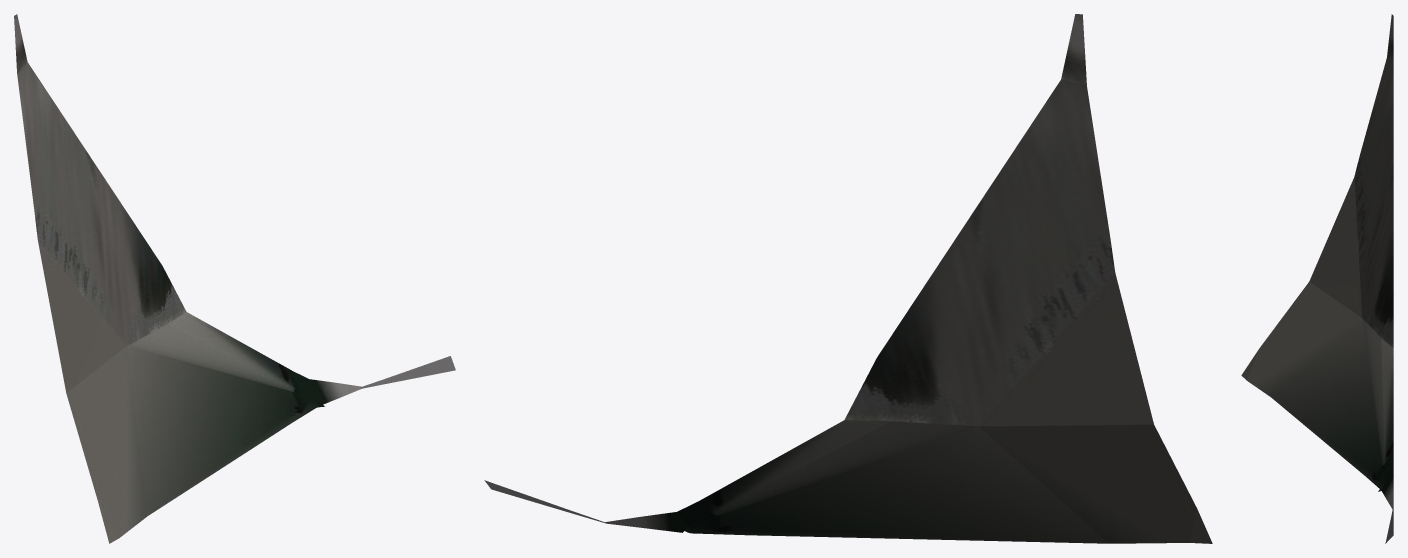
3 views of the same model, side by side, from view 1: azimuth 30°, elevation 25°; view 2: azimuth 150°, elevation 25°; view 3: azimuth 270°, elevation 25° (orthographic). The views are drawn at different scales.
Size of the model in its own units: 0.8374 by 0.8374 by 0.3197.
1 material, 1 textured.
